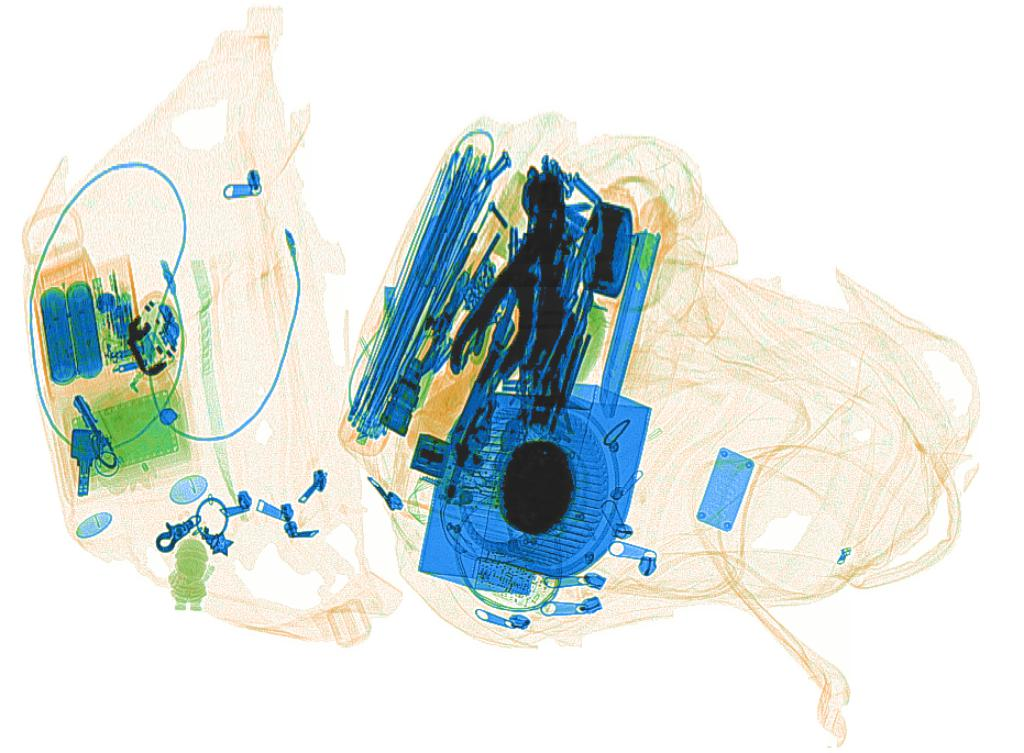battery: (37, 276, 106, 387)
knife: (597, 226, 661, 417)
